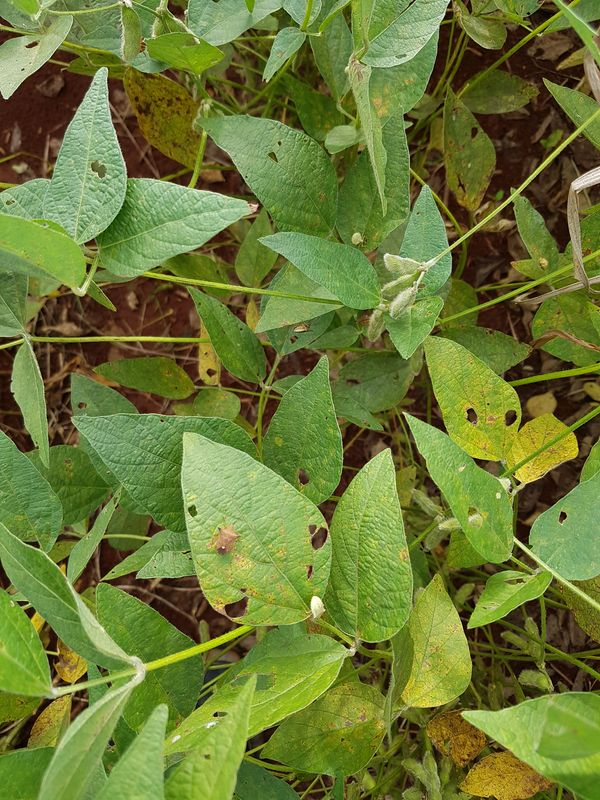Euschistus_heros_adulto: (202, 512, 246, 559)
Euschistus_heros_ninfa: (302, 593, 331, 623), (347, 228, 371, 251)
